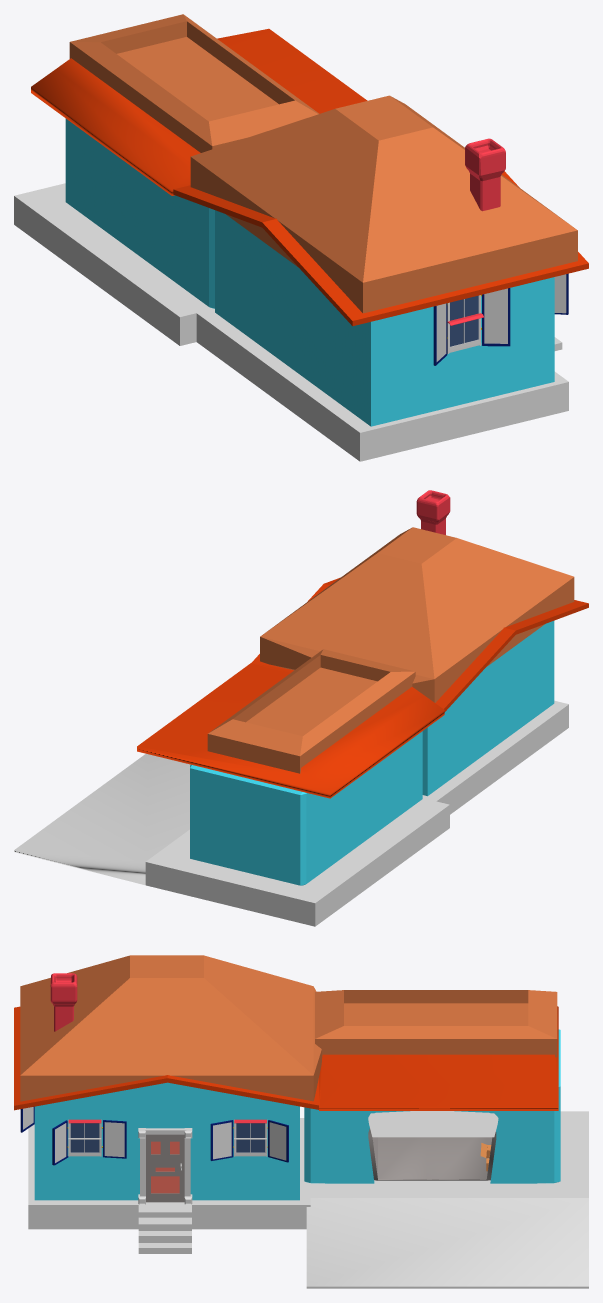
File: casaaddddiiii.fbx
The picture shows the model from 3 angles, top to bottom: view 1: azimuth 30°, elevation 25°; view 2: azimuth 150°, elevation 25°; view 3: azimuth 270°, elevation 25°; orthographic projection. The views are drawn at different scales.
Parts seen in each view (by area): view 1: acoperis, casa, Cube.032, Cube.087, garaj, rampa garaj, Cube.082, Cube.060, Cube.068, Cube.074, Cube.081; view 2: acoperis, rampa garaj, garaj, Cube.087, casa, Cube.032, Cube.082, Cube.060; view 3: acoperis, rampa garaj, casa, Cube.087, garaj, Cube.032, Cube.084, usa garaj, Cube.082, Cube.023, Cube.060, Plane (+9 smaller).
Boxes of the visible parts, <box> form: acoperis: <box>69,14,577,313</box>; casa: <box>215,210,554,426</box>; Cube.032: <box>196,309,568,461</box>; Cube.087: <box>31,28,367,195</box>; garaj: <box>65,118,214,308</box>; rampa garaj: <box>14,183,213,345</box>; Cube.082: <box>173,171,588,326</box>; Cube.060: <box>465,138,505,211</box>; Cube.068: <box>484,288,507,343</box>; Cube.074: <box>450,295,478,346</box>; Cube.081: <box>436,303,446,361</box>; acoperis: <box>207,527,574,773</box>; rampa garaj: <box>14,753,449,926</box>; garaj: <box>190,731,422,885</box>; Cube.087: <box>137,663,444,798</box>; casa: <box>422,621,554,796</box>; Cube.032: <box>422,700,568,814</box>; Cube.082: <box>251,577,588,711</box>; Cube.060: <box>416,490,450,534</box>; acoperis: <box>20,955,557,1101</box>; rampa garaj: <box>306,1111,588,1288</box>; casa: <box>34,1082,299,1200</box>; Cube.087: <box>319,1006,558,1110</box>; garaj: <box>304,1029,560,1183</box>; Cube.032: <box>28,1118,310,1229</box>; Cube.084: <box>368,1128,496,1180</box>; usa garaj: <box>368,1111,498,1137</box>; Cube.082: <box>14,1006,320,1110</box>; Cube.023: <box>146,1134,184,1202</box>; Cube.060: <box>50,973,77,1031</box>; Plane: <box>151,1141,179,1193</box>.
Bounding box in the file's own units: 3633 × 2477 × 5719.
